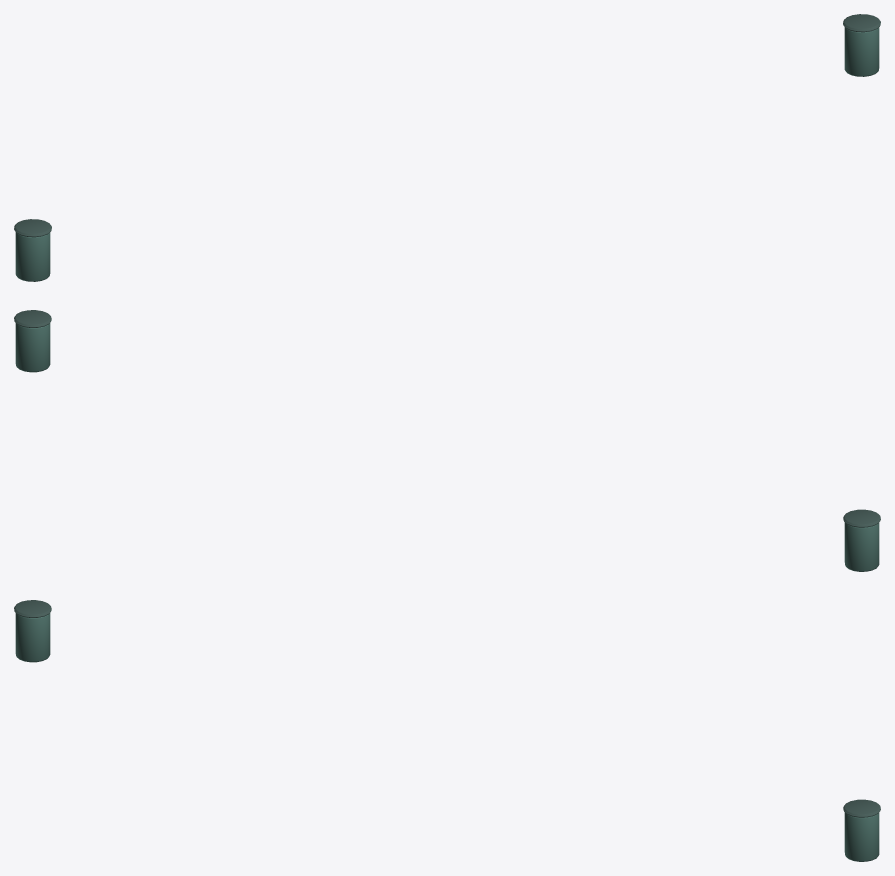
File: SM_Bins.fbx
The picture shows the model from 3 angles, top to bottom: view 1: azimuth 30°, elevation 25°; view 2: azimuth 150°, elevation 25°; view 3: azimuth 330°, elevation 25°; orthographic projection.
Visible parts, largest first — view 1: SM_Bins; view 2: SM_Bins; view 3: SM_Bins.
Boxes of the visible parts, left/top/right/bottom form: SM_Bins: left=14, top=14, right=880, bottom=281; SM_Bins: left=14, top=310, right=880, bottom=571; SM_Bins: left=14, top=600, right=880, bottom=861.
Bounding box in the file's own units: 1768 × 78 × 95.5.
